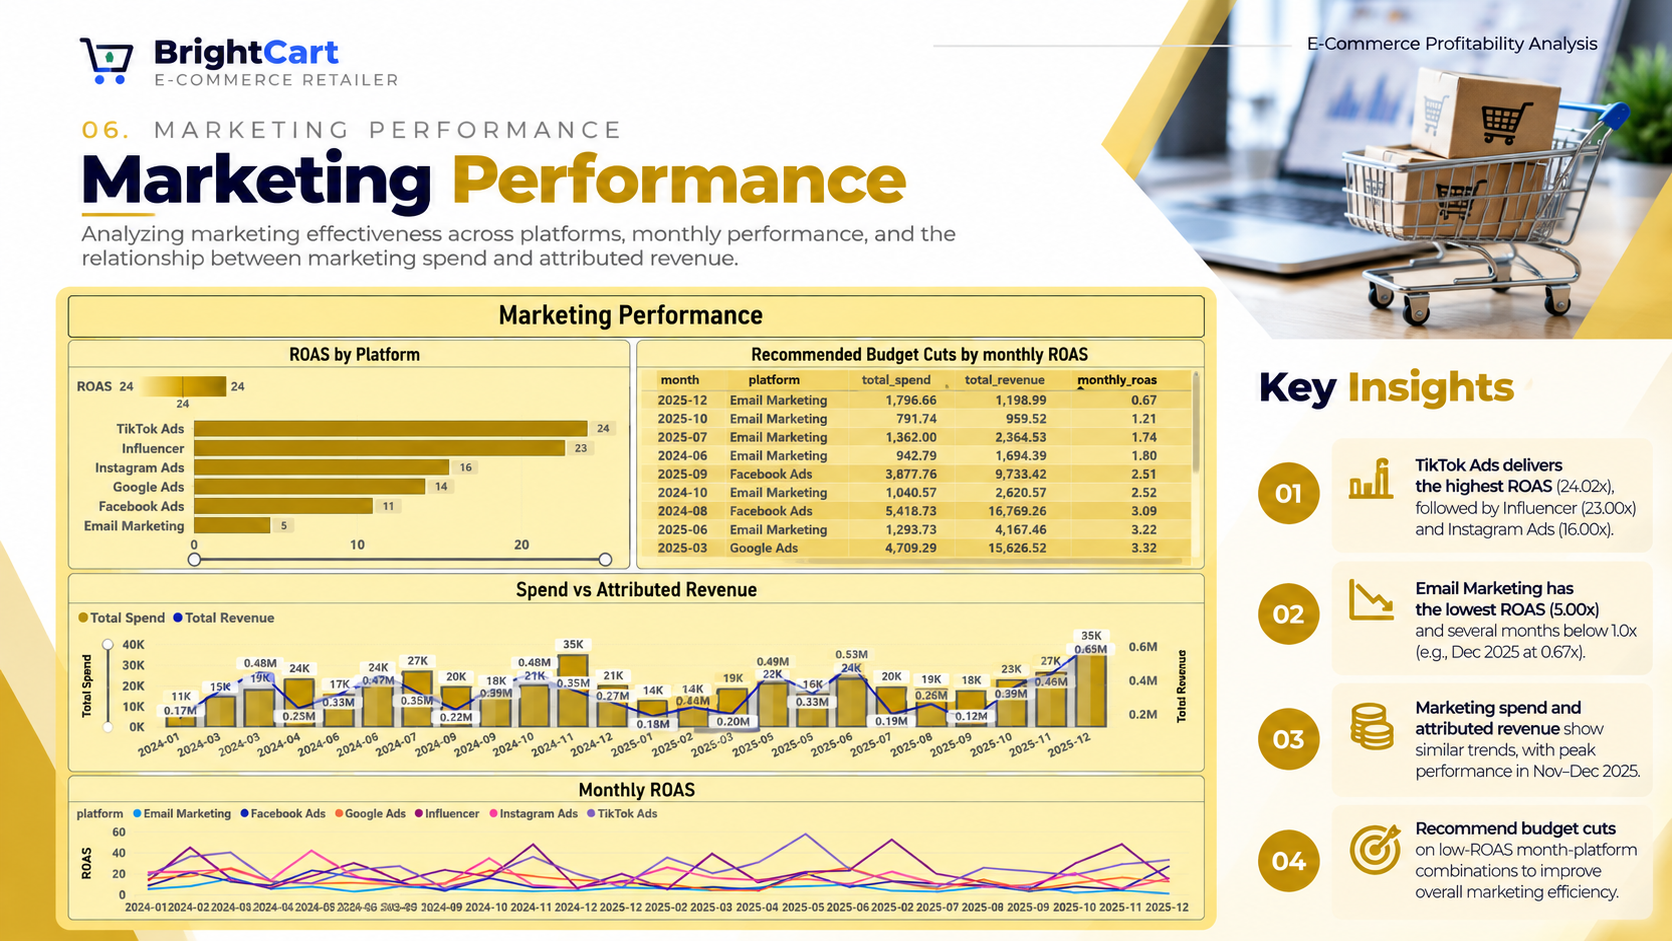

The page's visual inventory and layout, read from the dashboard file:
{"tool":"powerbi","page":{"name":"Marketing Performance","canvas":[1280,1200],"ordinal":2},"visuals":[{"type":"textbox","box":[13.3,15,1251.7,70],"z":0},{"type":"clusteredBarChart","title":"ROAS by Platform","fields":{"Category":["ecommerce marketing_spend.platform"],"Y":["ecommerce marketing_spend.overall_roas"]},"box":[13.1,100,626.2,332.8],"z":1000},{"type":"lineChart","title":"Monthly ROAS","fields":{"Category":["ecommerce marketing_spend.month"],"Y":["ecommerce marketing_spend.overall_roas"],"Series":["ecommerce marketing_spend.platform"]},"box":[13.1,816.4,1252.5,357.4],"z":2000},{"type":"lineClusteredColumnComboChart","title":"Spend vs Attributed Revenue","fields":{"Category":["ecommerce marketing_spend.month"],"Y":["Sum(ecommerce marketing_spend.spend)"],"Y2":["Sum(ecommerce marketing_spend.revenue_attributed)"]},"box":[13.1,449.2,1252.5,347.5],"z":3000},{"type":"tableEx","title":"Recommended Budget Cuts by monthly ROAS","fields":{"Values":["marketing_budget_cut.month","marketing_budget_cut.platform","Sum(marketing_budget_cut.total_spend)","Sum(marketing_budget_cut.total_revenue)","Sum(marketing_budget_cut.monthly_roas)","Sum(marketing_budget_cut.recommended_cut)"]},"box":[659,100,606.6,332.8],"z":4000}]}

Visuals, with their boxes on the page's 1280x1200 design canvas (x1, y1, x2, y2). These are canvas units, not pixel positions in the 1672x941 screenshot, which may show the page scaled, cropped or inside an application window:
textbox: 13 15 1265 85
"ROAS by Platform" clusteredBarChart: 13 100 639 433
"Monthly ROAS" lineChart: 13 816 1266 1174
"Spend vs Attributed Revenue" lineClusteredColumnComboChart: 13 449 1266 797
"Recommended Budget Cuts by monthly ROAS" tableEx: 659 100 1266 433
